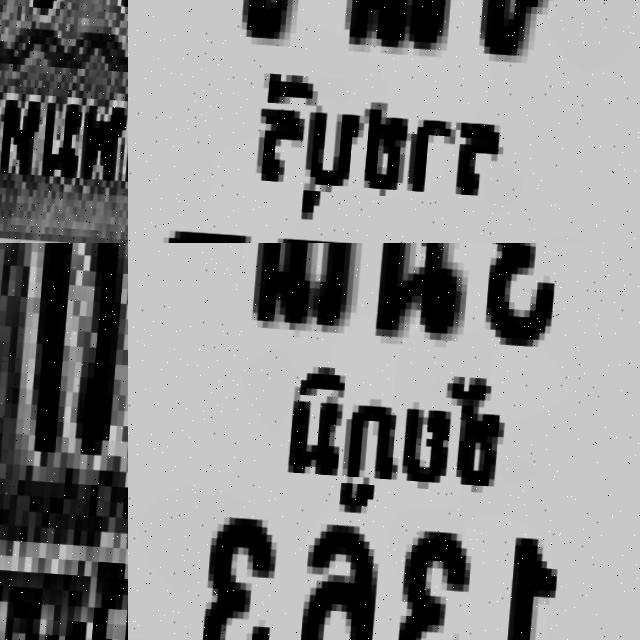license-plate: (128, 243, 640, 640), (128, 0, 640, 243), (0, 243, 128, 640), (0, 0, 128, 243)
